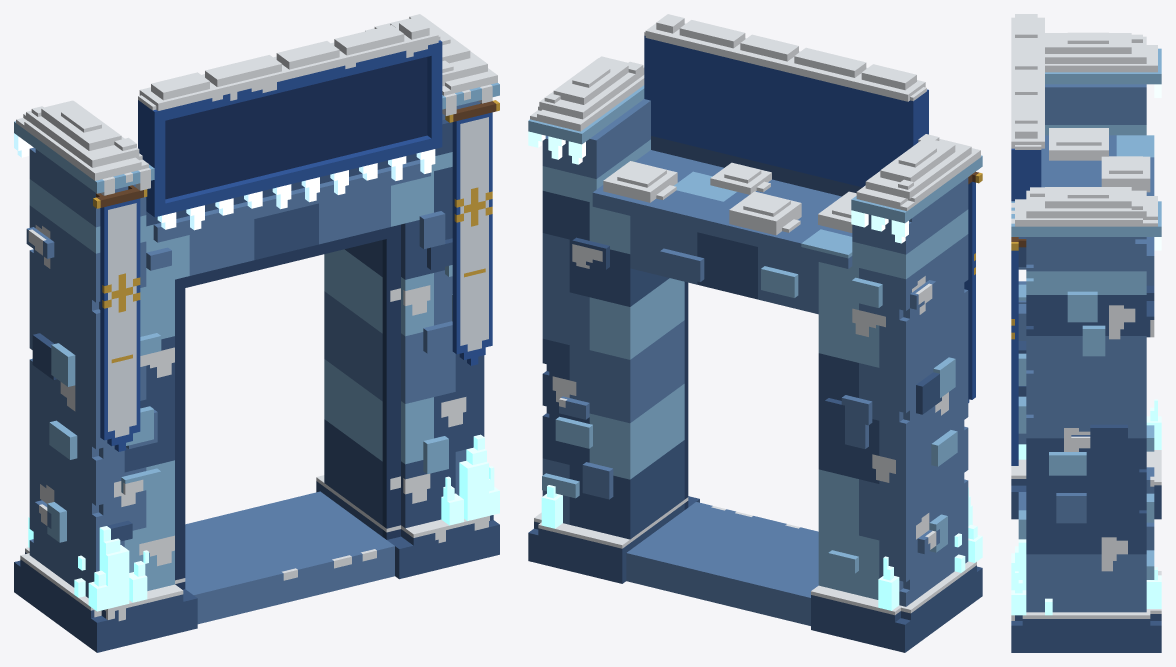
The model's file is Lobby_PortalArch_FrostpeakPass.glb.
3 views of the same model, side by side, from view 1: azimuth 30°, elevation 25°; view 2: azimuth 150°, elevation 25°; view 3: azimuth 270°, elevation 25° (orthographic). The views are drawn at different scales.
Parts seen in each view (by area): view 1: Pillar_L_Ice_Steel, Sign_Sign_Navy, Threshold_Ice_Steel, Pillar_R_Ice_Dark, Pillar_L_Ice_Pale, Pillar_R_Ice_Pale, Reveal_Ice_Reveal, Pillar_L_Ice_Dark, Sign_Sign_Royal, Pillar_R_Ice_Steel, Lintel_Ice_Steel, Sign_Snow (+14 smaller); view 2: Pillar_L_Ice_Steel, Sign_Sign_Royal, Pillar_R_Ice_Dark, Pillar_L_Ice_Pale, Pillar_R_Ice_Steel, Pillar_R_Ice_Pale, Snow_Snow, Threshold_Ice_Steel, Lintel_Ice_Steel, Pillar_L_Ice_Dark, Sign_Snow, Pillar_L_Snow (+9 smaller); view 3: Pillar_R_Ice_Steel, Pillar_R_Ice_Dark, Snow_Snow, Pillar_R_Ice_Pale, Sign_Snow, Pillar_L_Ice_Steel, Pillar_R_Snow, Lintel_Ice_Steel, Pillar_L_Ice_Pale, Crystals_R_Ice_Crystal, Banner_R_Banner_Border, Sign_Sign_Royal (+4 smaller).
Boxes of the visible parts, x1,y1,x2,y2 form: Pillar_L_Ice_Steel: (26, 147, 171, 597); Sign_Sign_Navy: (165, 57, 427, 199); Threshold_Ice_Steel: (185, 491, 394, 624); Pillar_R_Ice_Dark: (316, 119, 499, 579); Pillar_L_Ice_Pale: (14, 121, 189, 590); Pillar_R_Ice_Pale: (324, 82, 499, 473); Reveal_Ice_Reveal: (175, 224, 400, 589); Pillar_L_Ice_Dark: (14, 333, 197, 652); Sign_Sign_Royal: (138, 40, 442, 217); Pillar_R_Ice_Steel: (324, 101, 480, 495); Lintel_Ice_Steel: (153, 159, 430, 275); Sign_Snow: (138, 19, 440, 110); Pillar_L_Ice_Steel: (841, 177, 968, 606); Sign_Sign_Royal: (644, 35, 928, 187); Pillar_R_Ice_Dark: (528, 191, 699, 583); Pillar_L_Ice_Pale: (818, 155, 982, 599); Pillar_R_Ice_Steel: (542, 99, 684, 524); Pillar_R_Ice_Pale: (528, 85, 684, 498); Snow_Snow: (530, 56, 980, 235); Threshold_Ice_Steel: (626, 502, 818, 625); Lintel_Ice_Steel: (592, 150, 852, 314); Pillar_L_Ice_Dark: (811, 353, 982, 652); Sign_Snow: (644, 14, 926, 101); Pillar_L_Snow: (811, 276, 976, 615); Pillar_R_Ice_Steel: (1018, 237, 1154, 612); Pillar_R_Ice_Dark: (1011, 237, 1161, 652); Snow_Snow: (1015, 32, 1157, 226); Pillar_R_Ice_Pale: (1011, 201, 1161, 579); Sign_Snow: (1011, 14, 1044, 149); Pillar_L_Ice_Steel: (1018, 84, 1146, 303); Pillar_R_Snow: (1011, 203, 1161, 620); Lintel_Ice_Steel: (1018, 135, 1154, 285); Pillar_L_Ice_Pale: (1018, 48, 1161, 451); Crystals_R_Ice_Crystal: (1011, 539, 1161, 615); Banner_R_Banner_Border: (1011, 250, 1018, 465); Sign_Sign_Royal: (1011, 148, 1041, 201).
Bounding box in the file's own units: 2.8 × 3.6 × 1.
